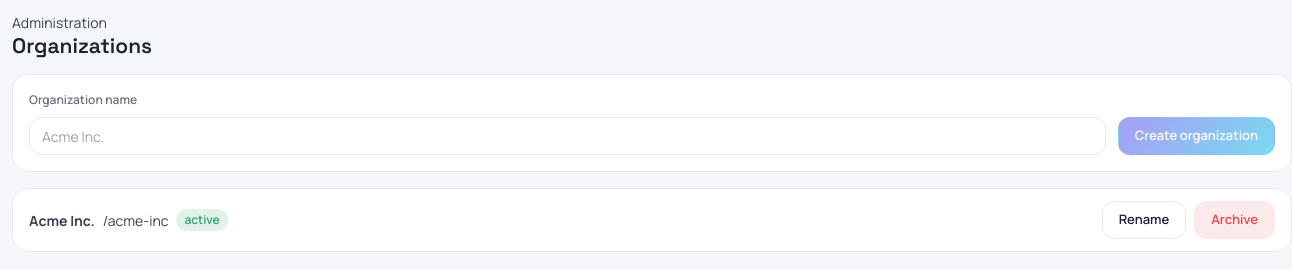
archives an active organization
Expected: the list item "Acme Inc." is shown, 29,211 -> 95,230
Click the button "Archive" at point(1235, 220), box 1194,201 -> 1275,239
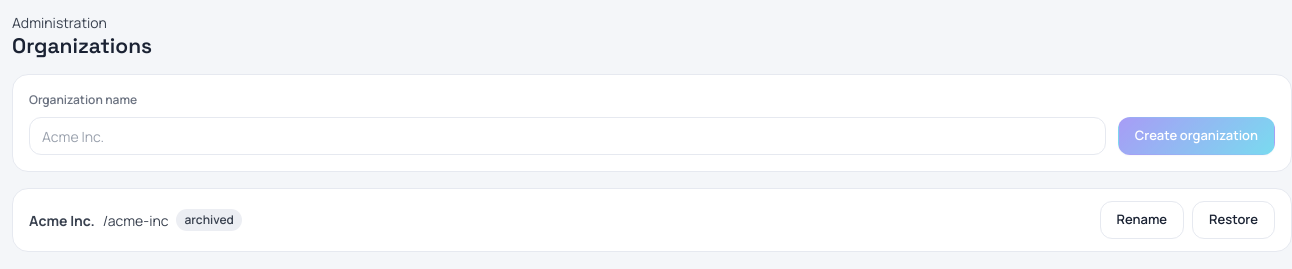
Expected: the button "Restore" is shown, 1192,201 -> 1275,239
